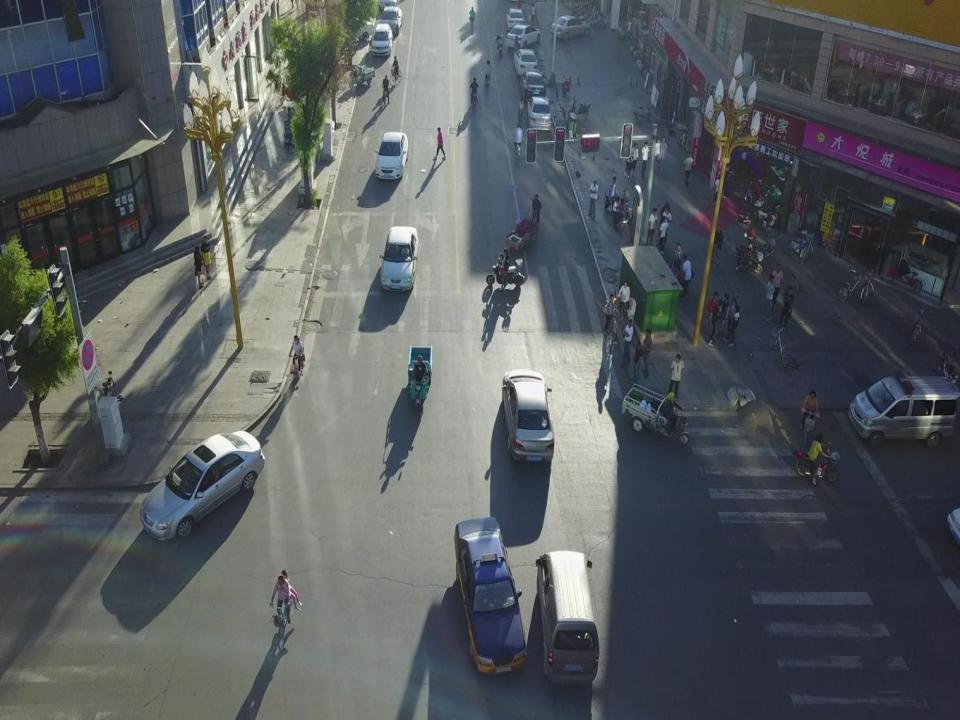car: (140, 428, 264, 540), (452, 516, 526, 677), (502, 369, 555, 465), (379, 226, 419, 292), (374, 132, 409, 180), (549, 16, 591, 40), (526, 95, 553, 132), (506, 24, 540, 50), (340, 17, 373, 41), (520, 71, 546, 97), (513, 48, 539, 74), (378, 7, 403, 33), (372, 24, 392, 55), (506, 7, 524, 28)
van: (534, 551, 600, 687), (848, 371, 960, 447)
